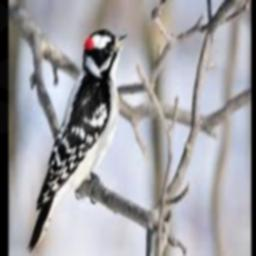Woodpecker: (27, 30, 130, 253)
